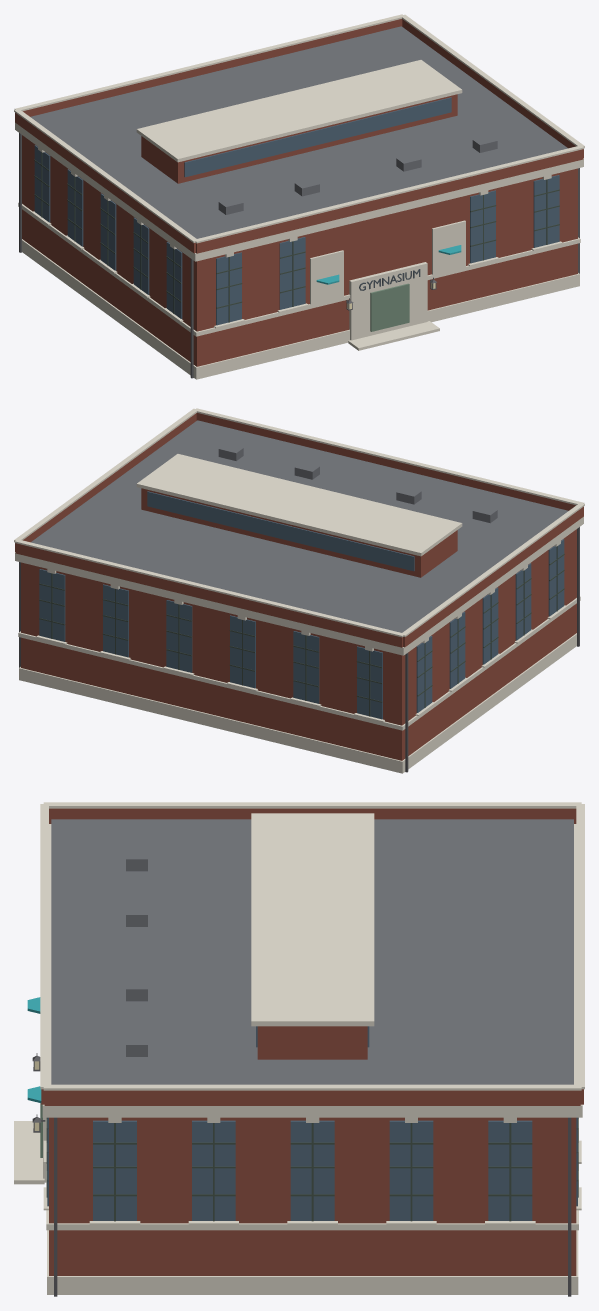
File: birchwood_hall.glb
The picture shows the model from 3 angles, top to bottom: view 1: azimuth 30°, elevation 25°; view 2: azimuth 150°, elevation 25°; view 3: azimuth 270°, elevation 25°; orthographic projection. The views are drawn at different scales.
Parts seen in each view (by area): view 1: birchwood_hall_export; view 2: birchwood_hall_export; view 3: birchwood_hall_export.
Part boxes in pixels (x1,y1,x2,y2): birchwood_hall_export: (14,14,584,379); birchwood_hall_export: (14,408,584,773); birchwood_hall_export: (14,802,584,1296).
Size of the model in its own units: 30.8 by 11.93 by 26.
